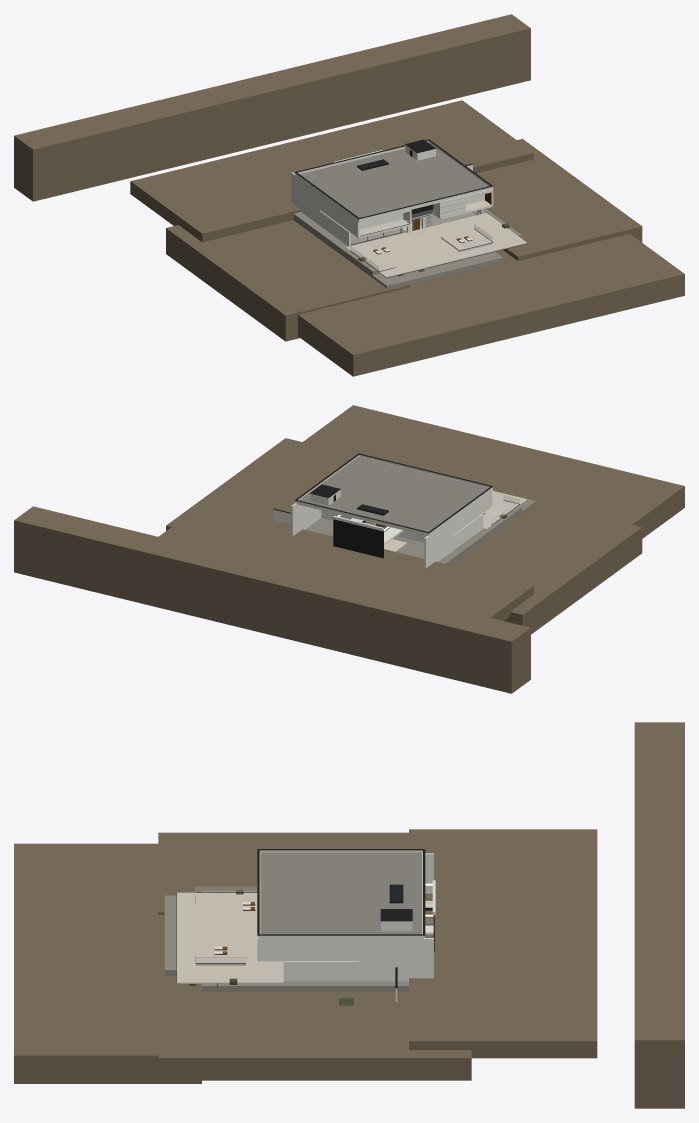
The model's file is the_portfolio_house.glb.
3 views of the same model, one above another, from view 1: azimuth 30°, elevation 25°; view 2: azimuth 150°, elevation 25°; view 3: azimuth 270°, elevation 25° (orthographic). The views are drawn at different scales.
Parts seen in each view (by area): view 1: ENV_Rear_Mountain_Horizon, ENV_Terrain_Slope_Fore_South, ENV_Terrain_Slope_Upper_North, ENV_Terrain_Slope_Mid_West, ENV_Terrain_Slope_Mid_East, HOUSE_Roof_Gravel_Bed, EXT_Terrace_Pool_Deck, HOUSE_Plinth_Retaining_Step, HOUSE_Plinth_Foundation, HOUSE_Atrium_OuterWall_West, EXT_Terrace_East_Plinth, HOUSE_FloorSlab_Ground (+1 smaller); view 2: ENV_Rear_Mountain_Horizon, ENV_Terrain_Slope_Fore_South, ENV_Terrain_Slope_Upper_North, ENV_Terrain_Slope_Mid_West, HOUSE_Roof_Gravel_Bed, ENV_Terrain_Slope_Mid_East, EXT_Glazing_Rear_Atrium_Frame_Outer, HOUSE_Plinth_Foundation, HOUSE_Atrium_OuterWall_West, EXT_Terrace_Pool_Deck, HOUSE_FloorSlab_Ground, HOUSE_Atrium_OuterWall_East (+3 smaller); view 3: ENV_Terrain_Slope_Upper_North, ENV_Terrain_Slope_Fore_South, ENV_Terrain_Slope_Mid_East, ENV_Rear_Mountain_Horizon, HOUSE_Roof_Gravel_Bed, ENV_Terrain_Slope_Mid_West, EXT_Terrace_Pool_Deck, HOUSE_Atrium_OuterWall_East, HOUSE_Plinth_Foundation, HOUSE_Upper_East_OuterWall, HOUSE_GroundFloor_Dining_EastWall, EXT_Terrace_East_Plinth (+3 smaller).
Boxes of the visible parts, box(x1,y1,x2,y2) form: ENV_Rear_Mountain_Horizon: box(14, 14, 530, 201); ENV_Terrain_Slope_Fore_South: box(298, 234, 684, 376); ENV_Terrain_Slope_Upper_North: box(130, 100, 533, 242); ENV_Terrain_Slope_Mid_West: box(166, 220, 409, 341); ENV_Terrain_Slope_Mid_East: box(476, 139, 642, 260); HOUSE_Roof_Gravel_Bed: box(299, 142, 488, 217); EXT_Terrace_Pool_Deck: box(345, 213, 527, 277); HOUSE_Plinth_Retaining_Step: box(334, 248, 502, 288); HOUSE_Plinth_Foundation: box(293, 208, 521, 275); HOUSE_Atrium_OuterWall_West: box(291, 172, 320, 225); EXT_Terrace_East_Plinth: box(441, 228, 493, 251); HOUSE_FloorSlab_Ground: box(350, 214, 465, 245); ENV_Rear_Mountain_Horizon: box(14, 506, 530, 693); ENV_Terrain_Slope_Fore_South: box(303, 405, 684, 538); ENV_Terrain_Slope_Upper_North: box(158, 504, 533, 620); ENV_Terrain_Slope_Mid_West: box(452, 501, 642, 634); HOUSE_Roof_Gravel_Bed: box(299, 456, 488, 531); ENV_Terrain_Slope_Mid_East: box(166, 438, 355, 530); EXT_Glazing_Rear_Atrium_Frame_Outer: box(333, 519, 383, 558); HOUSE_Plinth_Foundation: box(399, 507, 521, 565); HOUSE_Atrium_OuterWall_West: box(424, 518, 454, 568); EXT_Terrace_Pool_Deck: box(483, 491, 527, 529); HOUSE_FloorSlab_Ground: box(305, 517, 424, 558); HOUSE_Atrium_OuterWall_East: box(291, 503, 321, 535); ENV_Terrain_Slope_Upper_North: box(409, 829, 597, 1058); ENV_Terrain_Slope_Fore_South: box(14, 843, 201, 1083); ENV_Terrain_Slope_Mid_East: box(158, 978, 471, 1080); ENV_Rear_Mountain_Horizon: box(634, 722, 684, 1108); HOUSE_Roof_Gravel_Bed: box(260, 852, 422, 934); ENV_Terrain_Slope_Mid_West: box(158, 832, 408, 914); EXT_Terrace_Pool_Deck: box(177, 892, 283, 983); HOUSE_Atrium_OuterWall_East: box(359, 938, 433, 981); HOUSE_Plinth_Foundation: box(202, 890, 408, 991); HOUSE_Upper_East_OuterWall: box(257, 938, 358, 959); HOUSE_GroundFloor_Dining_EastWall: box(283, 961, 358, 981); EXT_Terrace_East_Plinth: box(196, 942, 245, 965).
Bounding box in the file's own units: 120 × 17.5 × 107.
